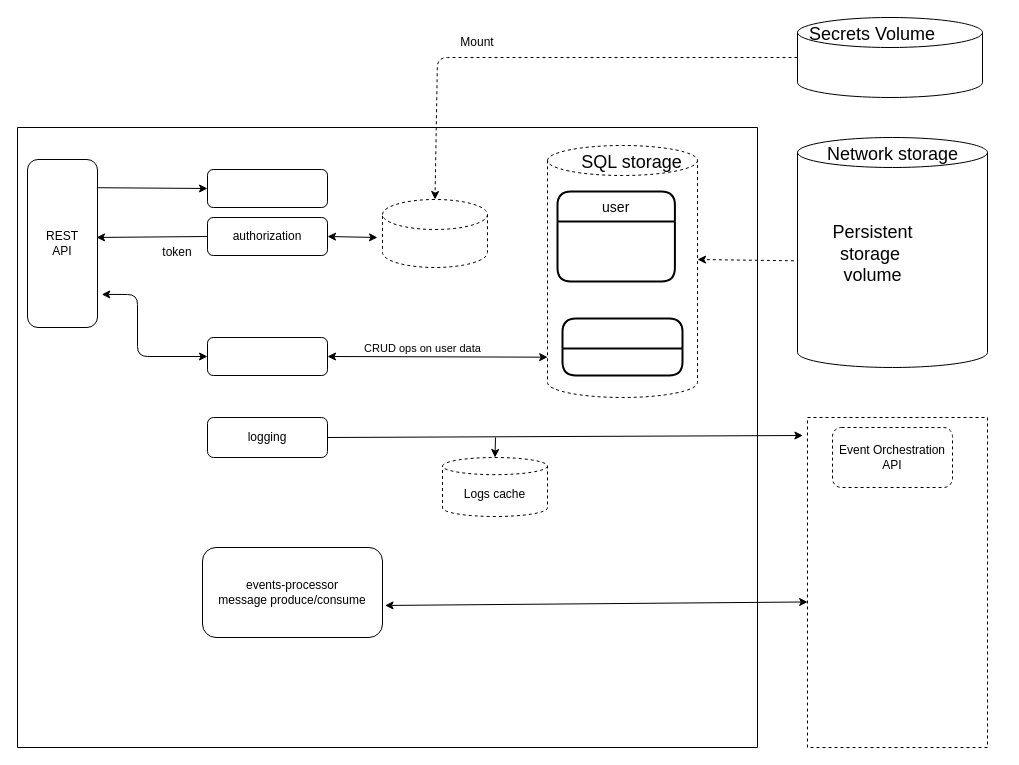
Some shapes in this 1019 by 765 pixel diagram are drawn without their labels. The box of each missing label's shape, as (x1, y1, x2, y2) in pixels:
authentication: (206, 168, 328, 208)
blacklist: (561, 317, 683, 376)
Crypto keys: (382, 198, 488, 268)
usersmngr: (206, 336, 328, 376)
